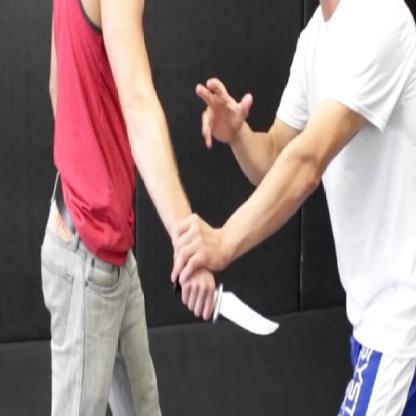knife: (167, 268, 283, 354)
